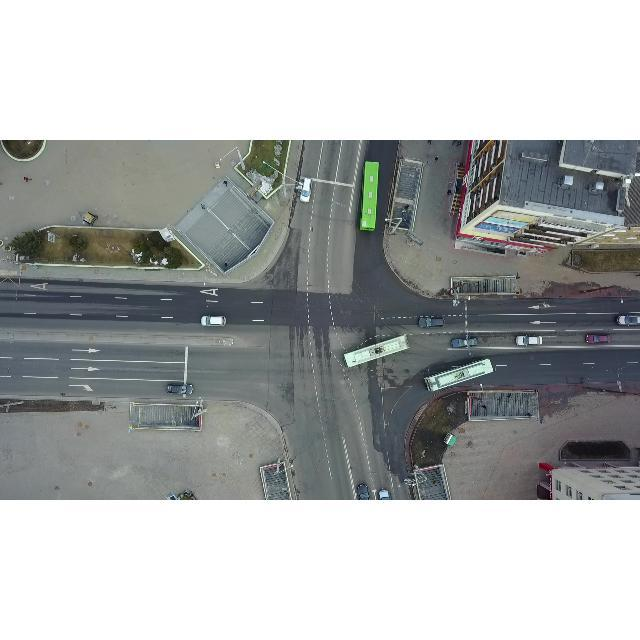vehicle: (417, 316, 445, 328), (516, 334, 542, 346), (300, 177, 312, 203), (616, 314, 640, 326), (166, 384, 194, 394), (450, 338, 478, 348), (200, 316, 226, 326), (585, 333, 611, 343)
